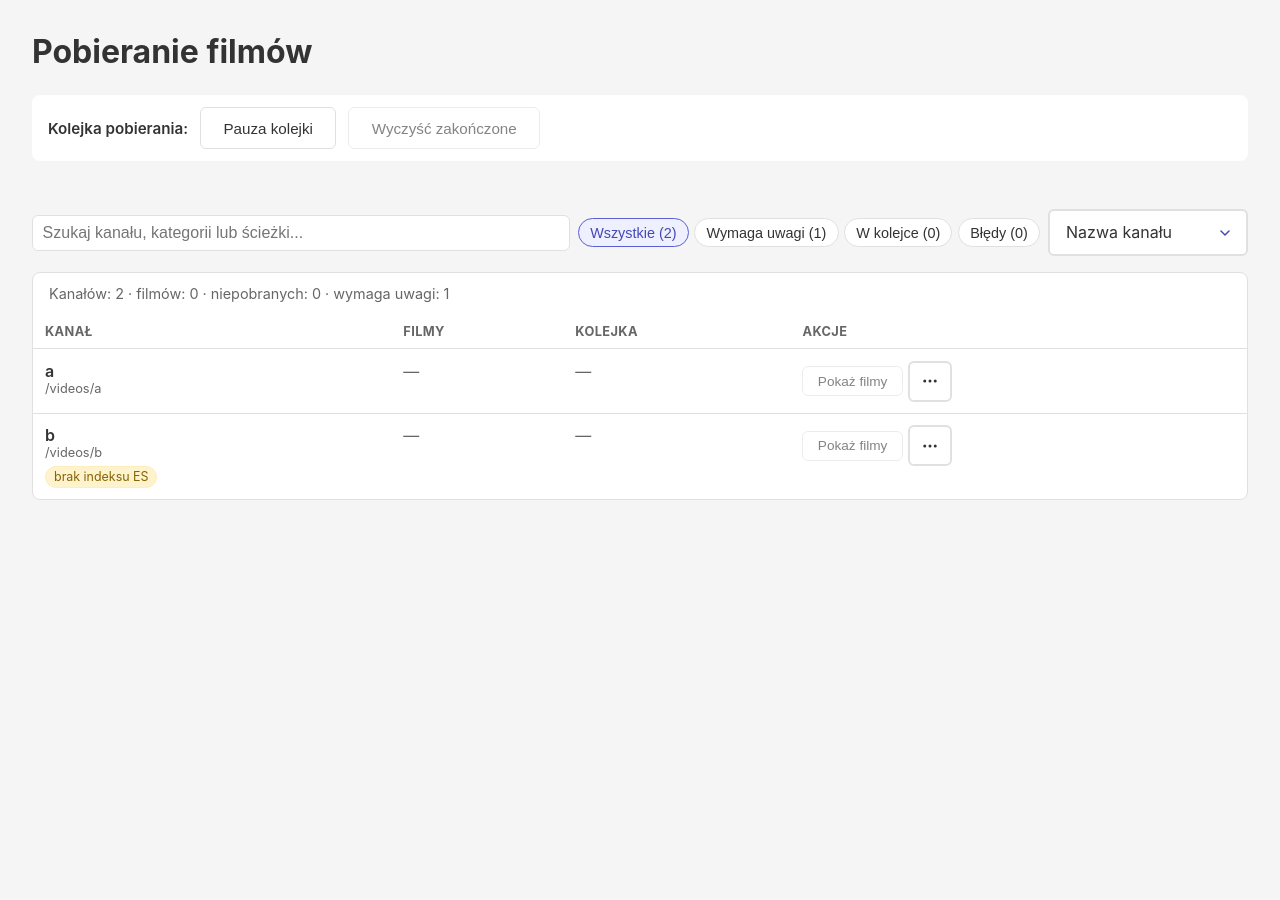
Test: StatusPage › keeps a folder the status did not report closed until its list.json is known
The image size is (1280, 900).
Expected: the button "Pokaż filmy" in the row of "/videos/a" is disabled, [802, 366, 903, 396]
Click the button named "Więcej akcji" in the row of "/videos/a". click: (930, 381)
box: [908, 361, 952, 402]
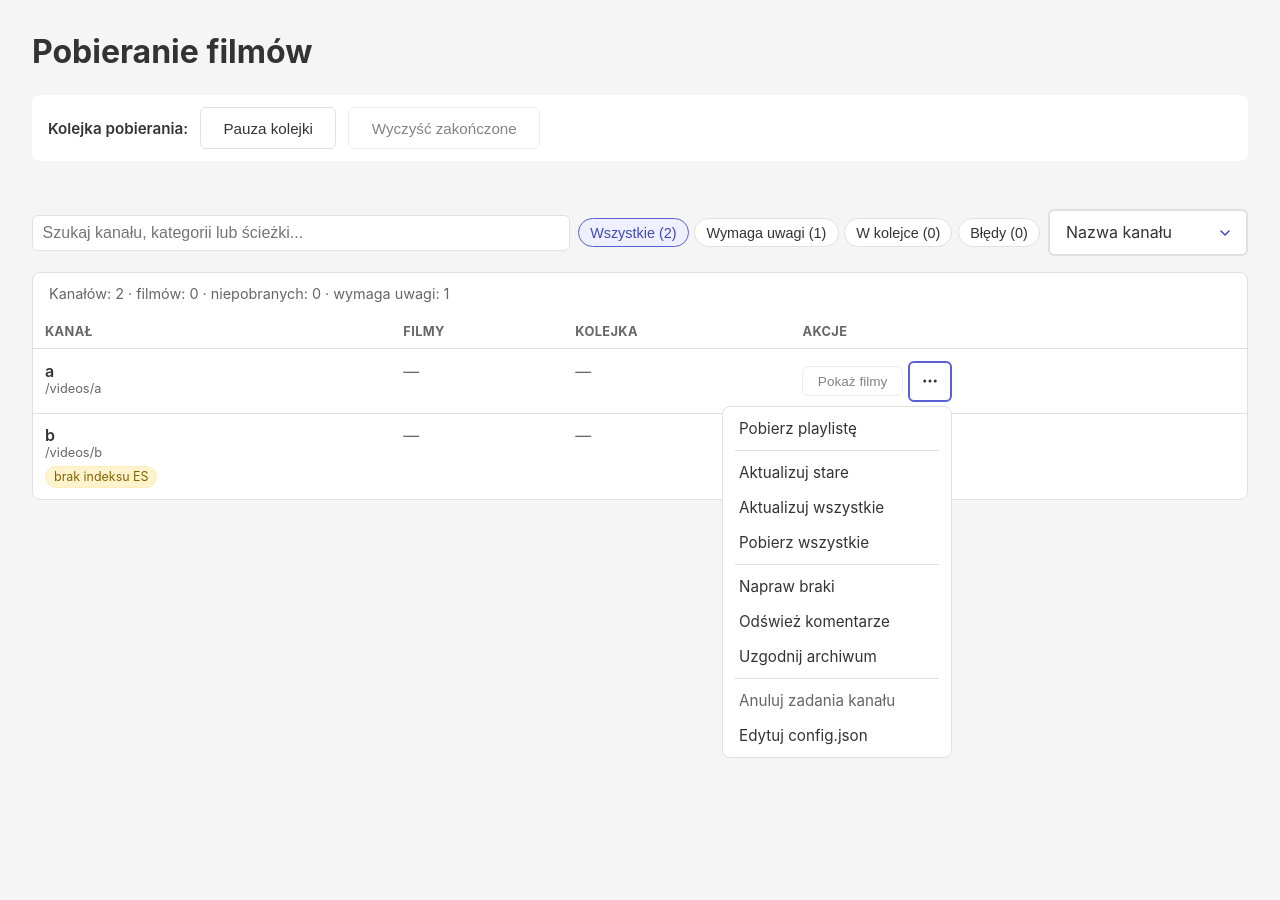
Result: the menu item "Pobierz playlistę" is enabled at [739, 419, 857, 438]
